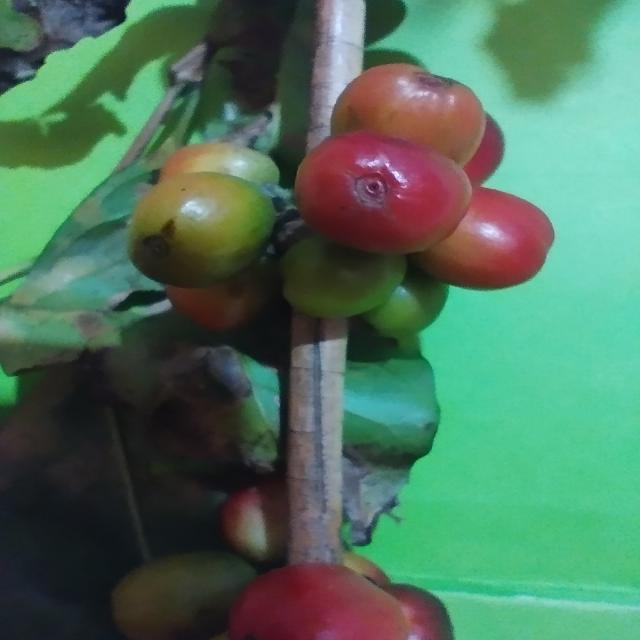Sano: (126, 144, 291, 294), (294, 131, 477, 258), (330, 63, 505, 183), (414, 187, 557, 293)
